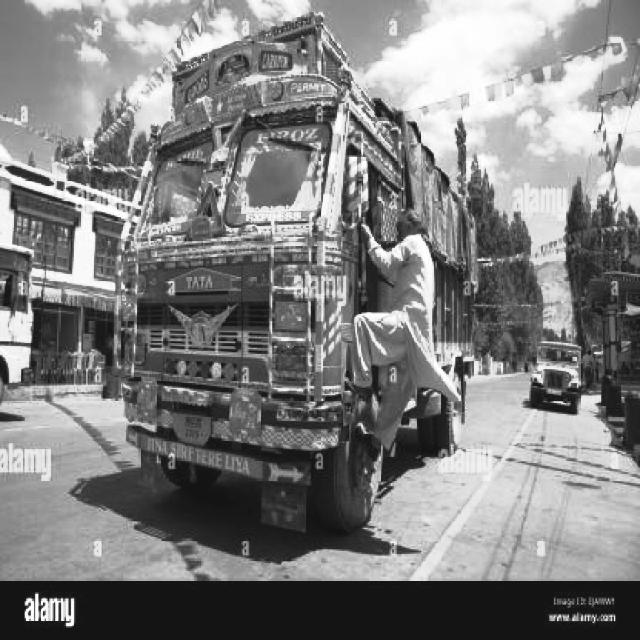HCV: (143, 42, 480, 526)
